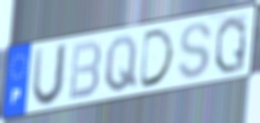B: (67, 38, 103, 102)
D: (137, 26, 176, 91)
Q: (213, 13, 249, 76), (104, 34, 139, 94)
S: (176, 21, 214, 81)
U: (30, 41, 70, 109)
